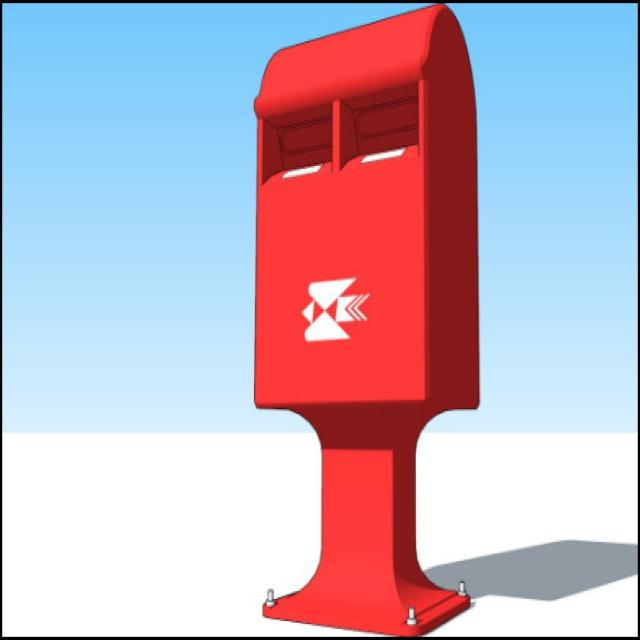Post Box: (254, 0, 478, 640)
